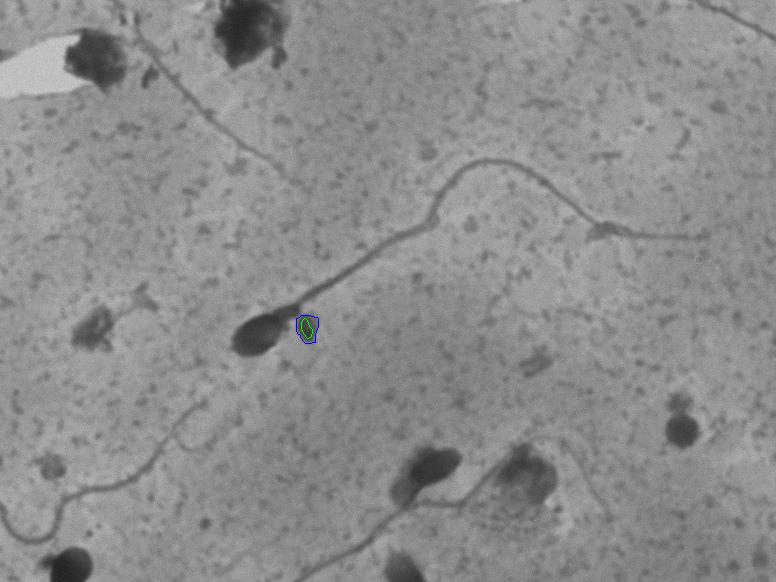Abnormal: (207, 144, 680, 365)
